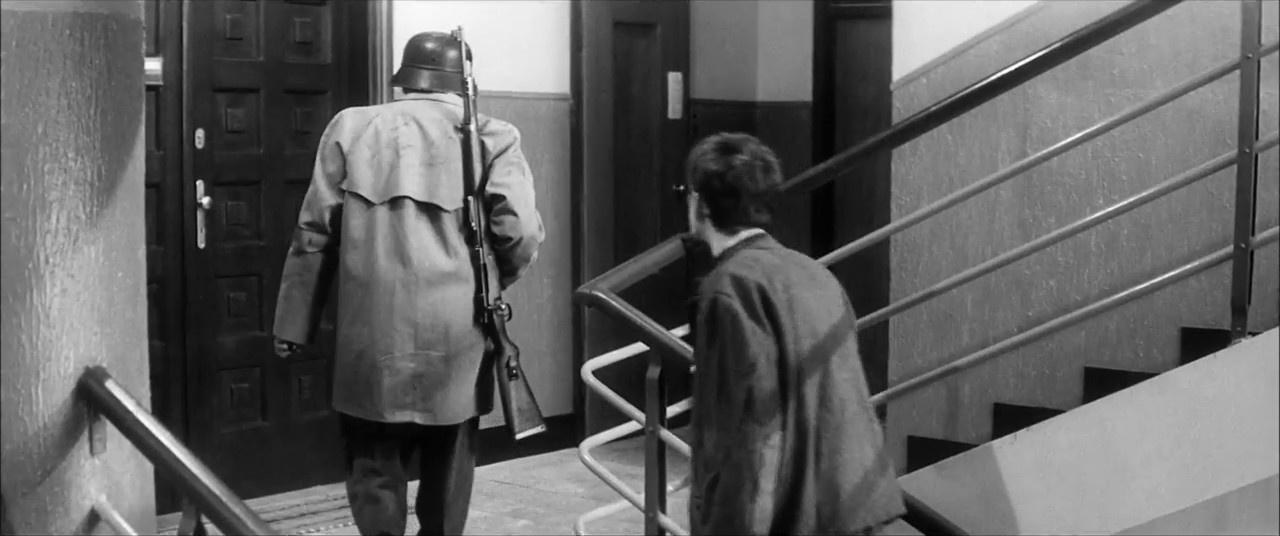blood: (440, 10, 562, 465)
